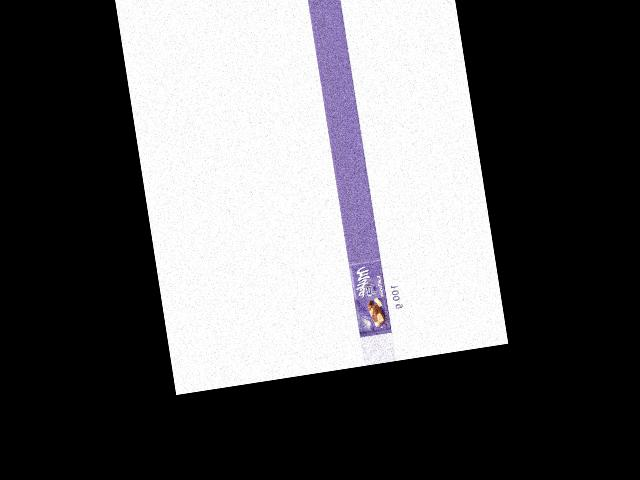chocolate: (347, 255, 397, 338)
